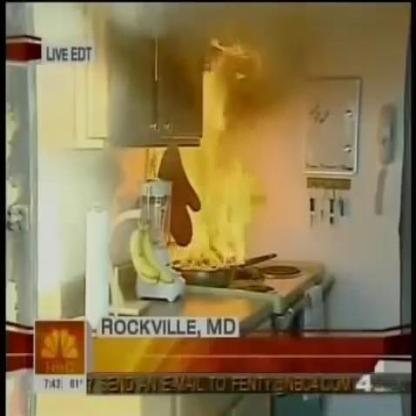fire: (144, 45, 254, 271)
